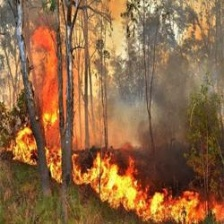fire: (13, 109, 224, 222)
